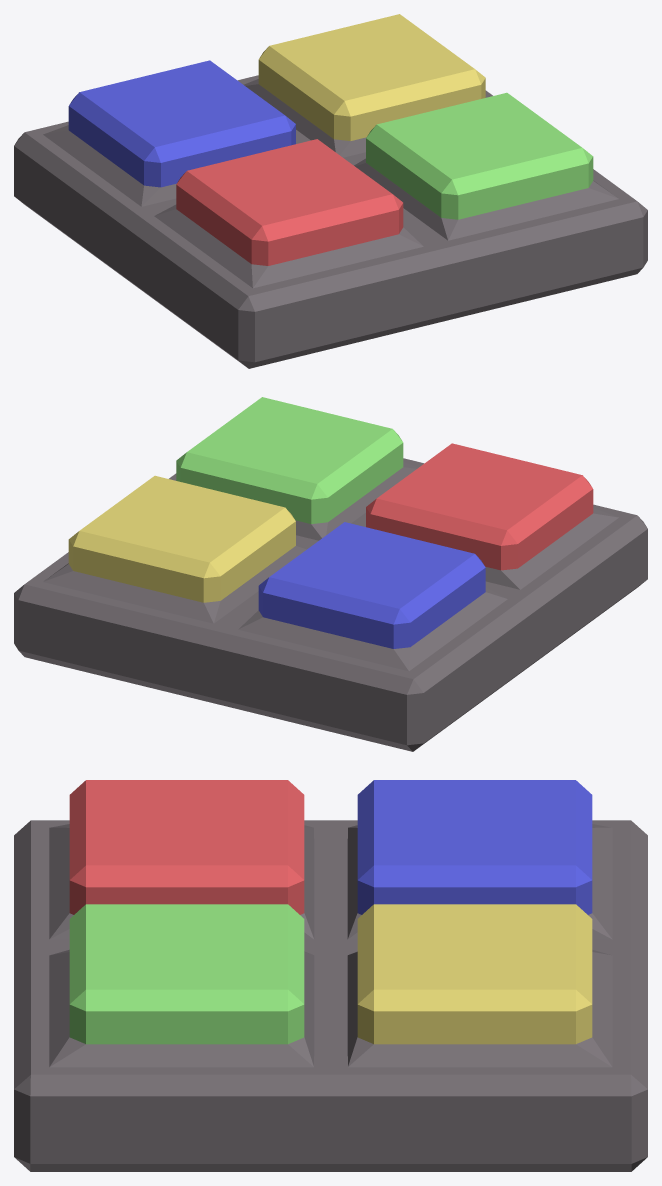
File: simon_on.glb
The picture shows the model from 3 angles, top to bottom: view 1: azimuth 30°, elevation 25°; view 2: azimuth 150°, elevation 25°; view 3: azimuth 270°, elevation 25°; orthographic projection. The views are drawn at different scales.
Visible parts, largest first — view 1: Simon; view 2: Simon; view 3: Simon.
Part boxes in pixels (x1=…): Simon: x1=14, y1=14, x2=647, y2=368; Simon: x1=14, y1=397, x2=647, y2=751; Simon: x1=14, y1=780, x2=647, y2=1171.
Bounding box in the file's own units: 0.7697 × 0.2145 × 0.7697.
